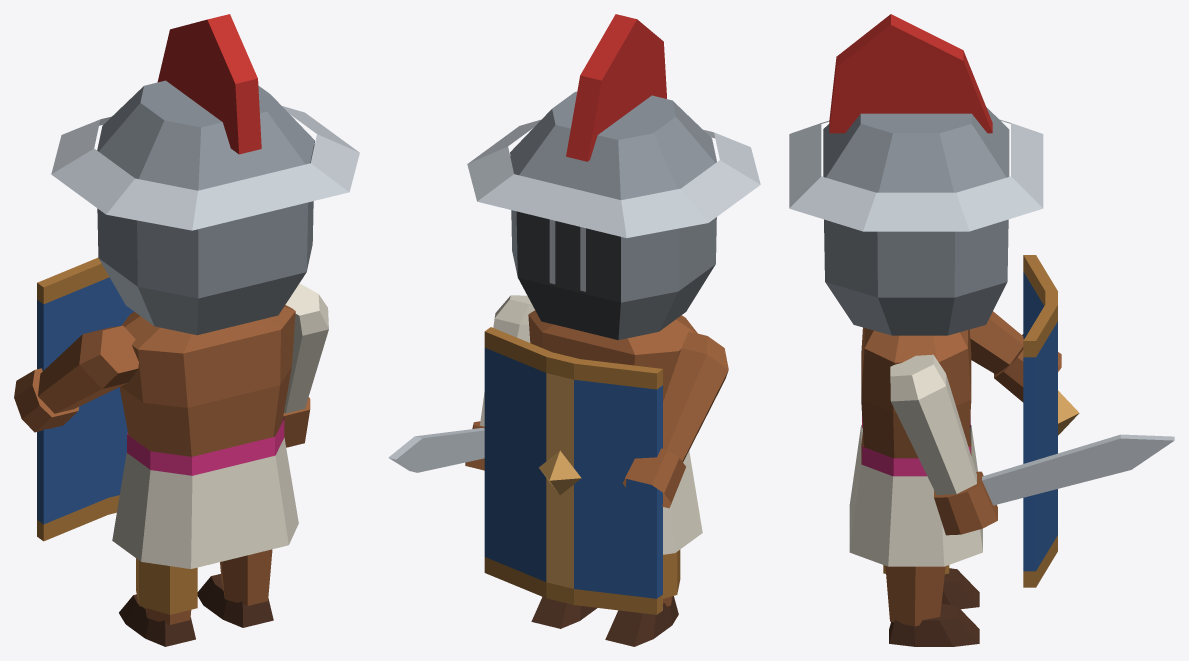
Rendered from EN_Murmillo.fbx.
3 views of the same model, side by side, from view 1: azimuth 30°, elevation 25°; view 2: azimuth 150°, elevation 25°; view 3: azimuth 270°, elevation 25° (orthographic). The views are drawn at different scales.
Parts seen in each view (by area): view 1: Head, Body, ArmL, LegL, ArmR, LegR; view 2: Head, ArmL, Body, ArmR, LegL, LegR; view 3: Head, Body, ArmR, ArmL, LegR, LegL.
Part boxes in pixels (box(x1,y1,x2,y2)): Head: box(51, 14, 359, 335); Body: box(112, 305, 298, 568); ArmL: box(14, 257, 138, 541); LegL: box(119, 558, 197, 646); ArmR: box(283, 283, 328, 447); LegR: box(197, 549, 273, 627); Head: box(467, 14, 760, 340); ArmL: box(484, 327, 728, 614); Body: box(528, 310, 702, 554); ArmR: box(388, 295, 534, 472); LegL: box(605, 550, 680, 646); LegR: box(531, 597, 596, 628); Head: box(789, 14, 1043, 335); Body: box(849, 327, 982, 566); ArmR: box(890, 354, 1174, 535); ArmL: box(969, 255, 1079, 587); LegR: box(885, 566, 979, 646); LegL: box(883, 565, 979, 609).
Size of the model in its own units: 0.7844 by 1.06 by 1.82.
